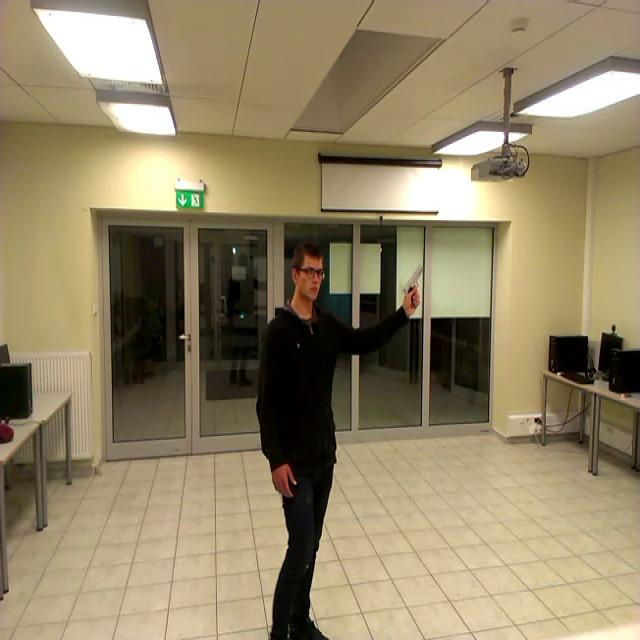Gun: (404, 263, 424, 308)
